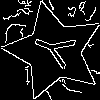Y: (29, 26, 86, 74)
